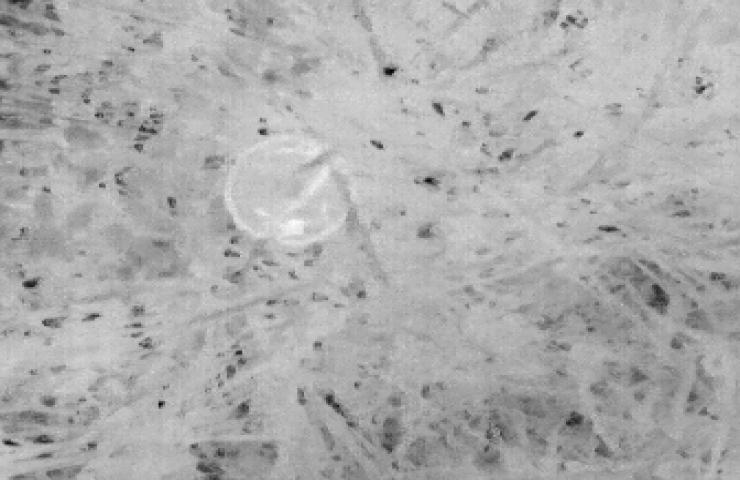landmines: (222, 136, 360, 252)
